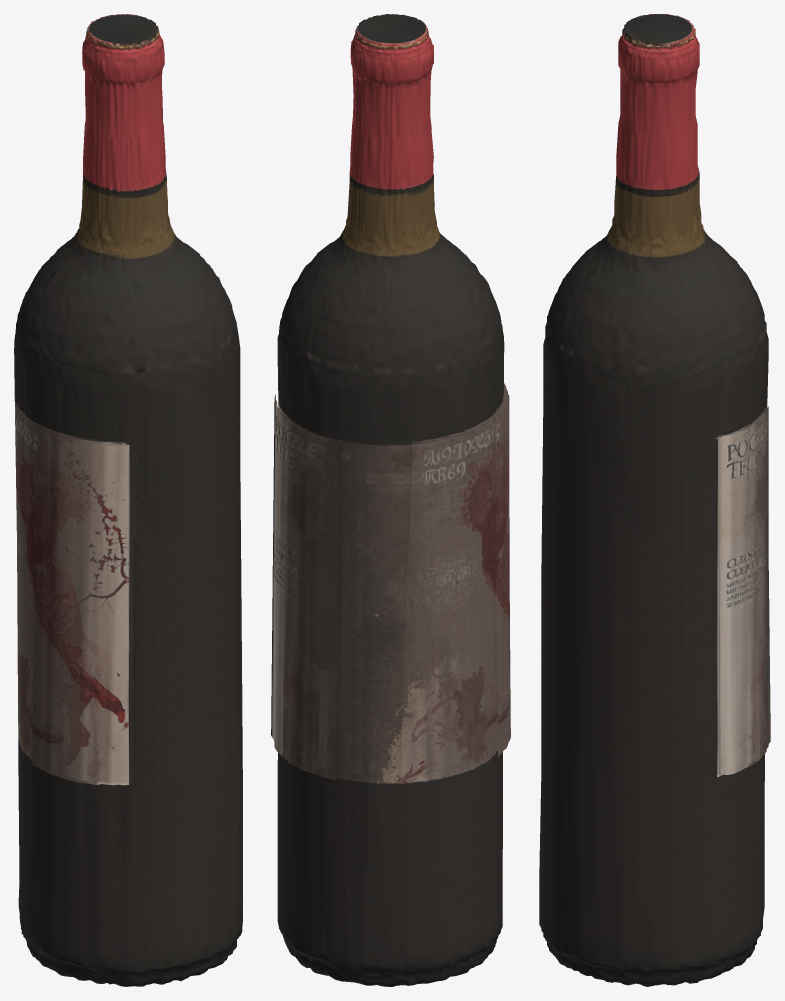
File: vino_chianti_classico.fbx
The picture shows the model from 3 angles, left to right: view 1: azimuth 30°, elevation 25°; view 2: azimuth 150°, elevation 25°; view 3: azimuth 270°, elevation 25°; orthographic projection.
Visible parts, largest first — view 1: meshes[0]; view 2: meshes[0]; view 3: meshes[0].
Boxes of the visible parts, box(x1,y1,x2,y2) form: meshes[0]: box(14, 14, 242, 986); meshes[0]: box(271, 14, 510, 986); meshes[0]: box(539, 14, 770, 986).
Size of the model in its own units: 22.85 by 99.8 by 22.85.
Materials: 1 (1 with a texture image).
